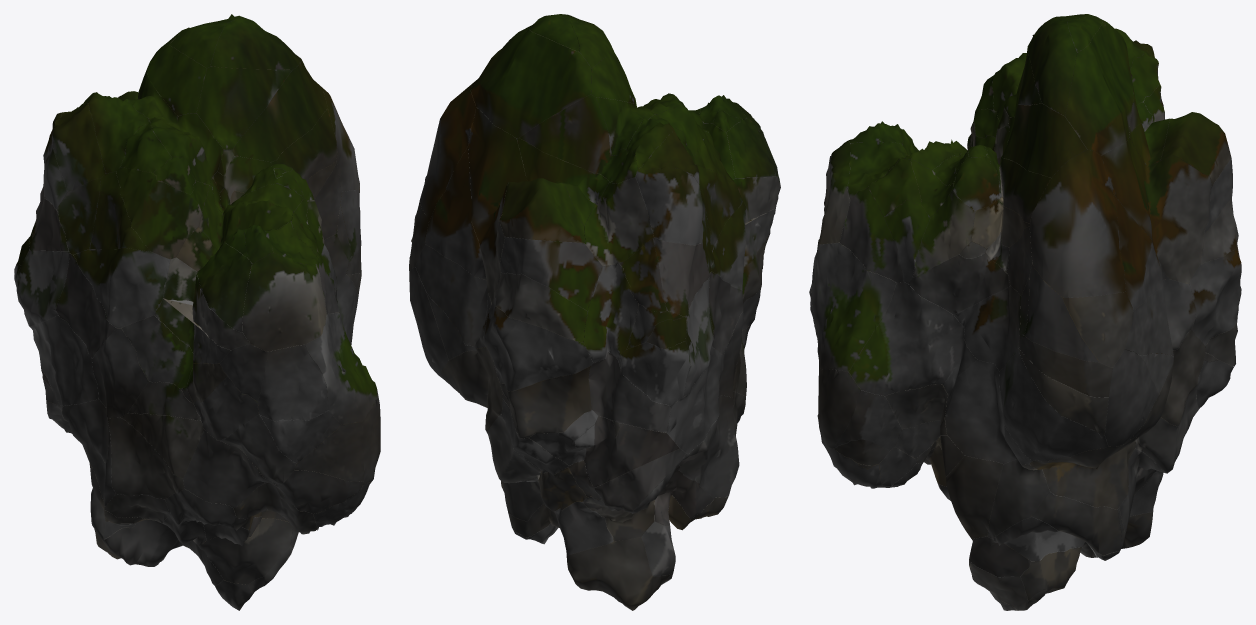
The model's file is generic_island_5.fbx.
The picture shows the model from 3 angles, left to right: view 1: azimuth 30°, elevation 25°; view 2: azimuth 150°, elevation 25°; view 3: azimuth 270°, elevation 25°; orthographic projection. The views are drawn at different scales.
Visible parts, largest first — view 1: rock_cell.247, rock_cell.016, rock_cell.249, rock_cell.018, rock_cell.263, rock_cell.070, rock_cell.158, rock_cell.178, rock_cell.022, rock_cell.251, rock_cell.225, rock_cell.057 (+55 smaller); view 2: rock_cell.186, rock_cell.073, rock_cell.253, rock_cell.020, rock_cell.110, rock_cell.029, rock_cell.112, rock_cell.172, rock_cell.097, rock_cell.134, rock_cell.024, rock_cell.245 (+51 smaller); view 3: rock_cell.192, rock_cell.073, rock_cell.243, rock_cell.070, rock_cell.186, rock_cell.206, rock_cell.276, rock_cell.140, rock_cell.263, rock_cell.002, rock_cell.097, rock_cell.213 (+54 smaller).
Part boxes in pixels (x1,y1,x2,y2): rock_cell.247: (242,253,326,351); rock_cell.016: (73,248,170,327); rock_cell.249: (116,167,209,259); rock_cell.018: (196,66,291,150); rock_cell.263: (232,60,327,161); rock_cell.070: (305,312,377,424); rock_cell.158: (258,344,328,421); rock_cell.178: (29,315,98,405); rock_cell.022: (183,429,276,507); rock_cell.251: (107,417,184,498); rock_cell.225: (198,518,292,584); rock_cell.057: (92,328,148,418); rock_cell.186: (470,29,591,138); rock_cell.073: (468,107,527,305); rock_cell.253: (483,298,593,391); rock_cell.020: (519,94,637,183); rock_cell.110: (500,237,602,310); rock_cell.029: (566,537,669,610); rock_cell.112: (499,178,584,242); rock_cell.172: (584,177,653,266); rock_cell.097: (415,245,491,348); rock_cell.134: (635,167,703,245); rock_cell.024: (500,366,591,438); rock_cell.245: (425,147,486,279); rock_cell.192: (1029,149,1125,297); rock_cell.073: (1101,137,1211,284); rock_cell.243: (849,282,976,395); rock_cell.070: (811,242,896,372); rock_cell.186: (1065,20,1133,155); rock_cell.206: (999,346,1107,461); rock_cell.276: (942,359,1031,464); rock_cell.140: (1030,437,1138,509); rock_cell.263: (1003,103,1087,177); rock_cell.002: (908,252,1010,314); rock_cell.097: (1124,279,1195,355); rock_cell.213: (954,286,1020,371).
Size of the model in its own units: 446 by 793 by 518.
Materials: 1 (1 with a texture image).
